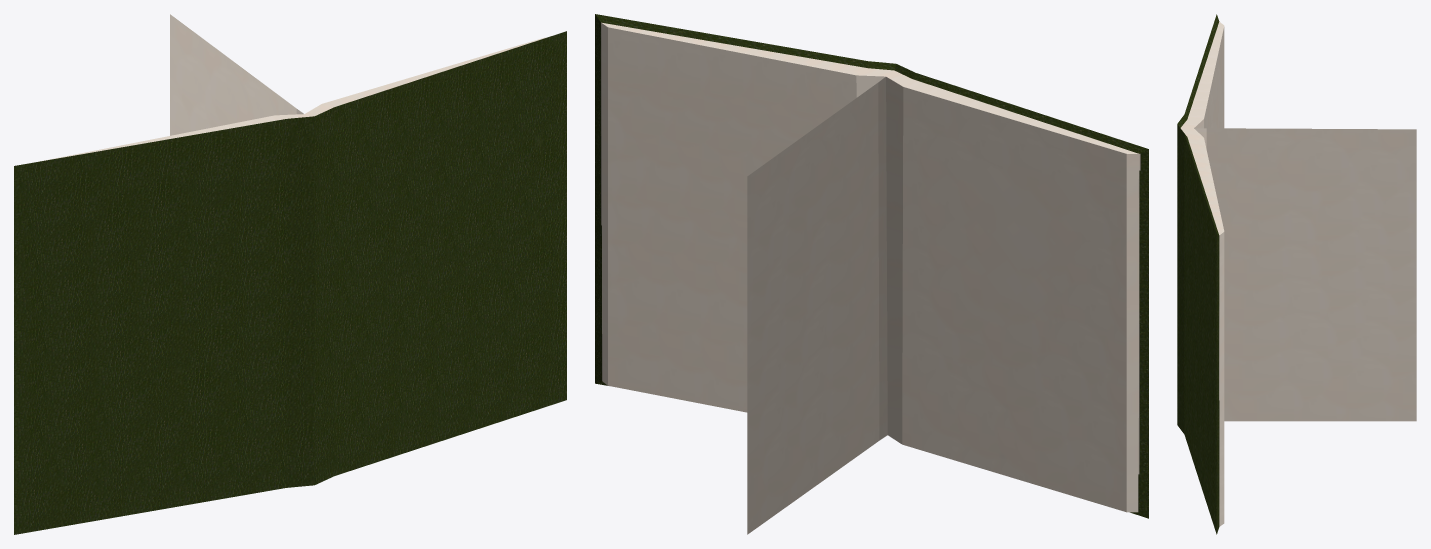
The model's file is book.fbx.
The picture shows the model from 3 angles, left to right: view 1: azimuth 30°, elevation 25°; view 2: azimuth 150°, elevation 25°; view 3: azimuth 270°, elevation 25°; orthographic projection. The views are drawn at different scales.
Parts seen in each view (by area): view 1: Cube; view 2: Cube; view 3: Cube.
Part boxes in pixels (x1,y1,x2,y2): Cube: (14,14,566,534); Cube: (595,14,1148,534); Cube: (1177,14,1416,534).
Bounding box in the file's own units: 660 × 421 × 304.
Materials: 1 (1 with a texture image).
